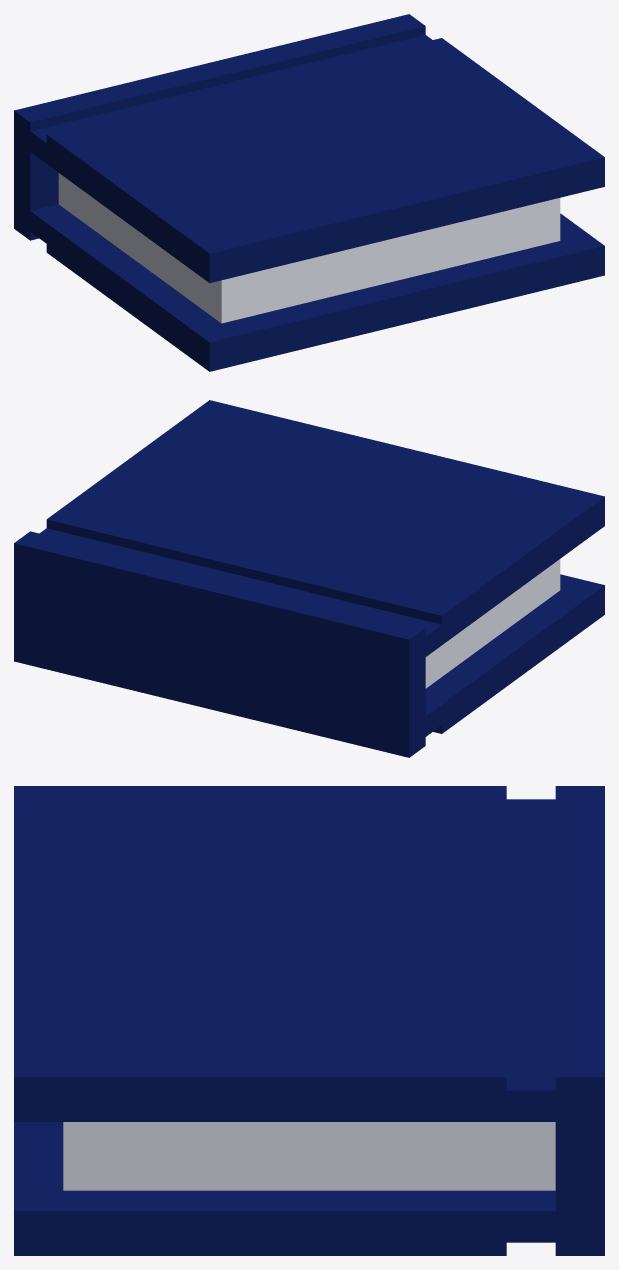
File: Book2.fbx
3 renders of one model, top to bottom at view 1: azimuth 30°, elevation 25°; view 2: azimuth 150°, elevation 25°; view 3: azimuth 270°, elevation 25°, orthographic. The views are drawn at different scales.
Visible parts, largest first — view 1: mergedBlocks; view 2: mergedBlocks; view 3: mergedBlocks.
Boxes of the visible parts, <box> form: mergedBlocks: <box>14,14,604,371</box>; mergedBlocks: <box>14,400,604,757</box>; mergedBlocks: <box>14,786,604,1255</box>.
Size of the model in its own units: 6.3 by 1.8 by 5.4.
